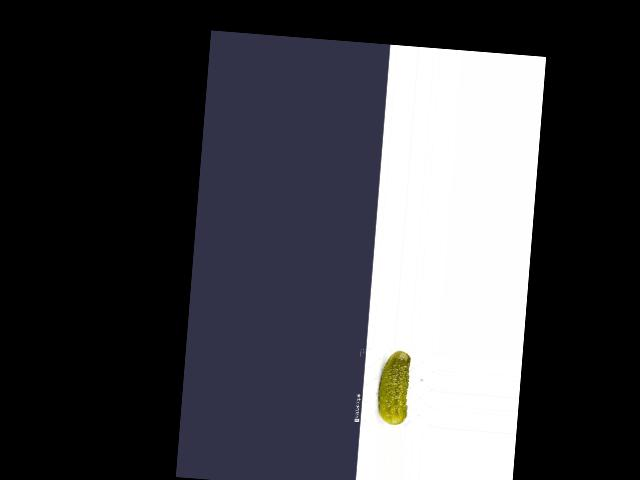cucumber: (375, 348, 411, 425)
